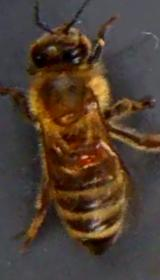varroa_mite: (68, 150, 99, 166)
